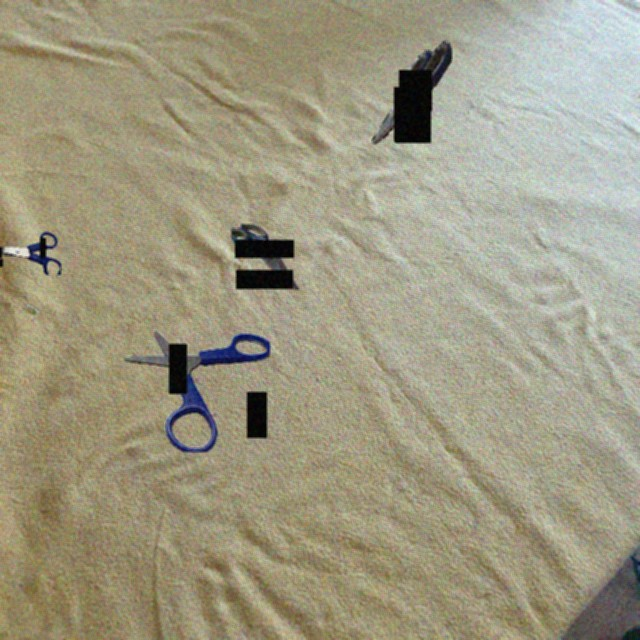scissors: (124, 330, 270, 452), (372, 41, 452, 144), (231, 224, 299, 290), (0, 232, 61, 275)
